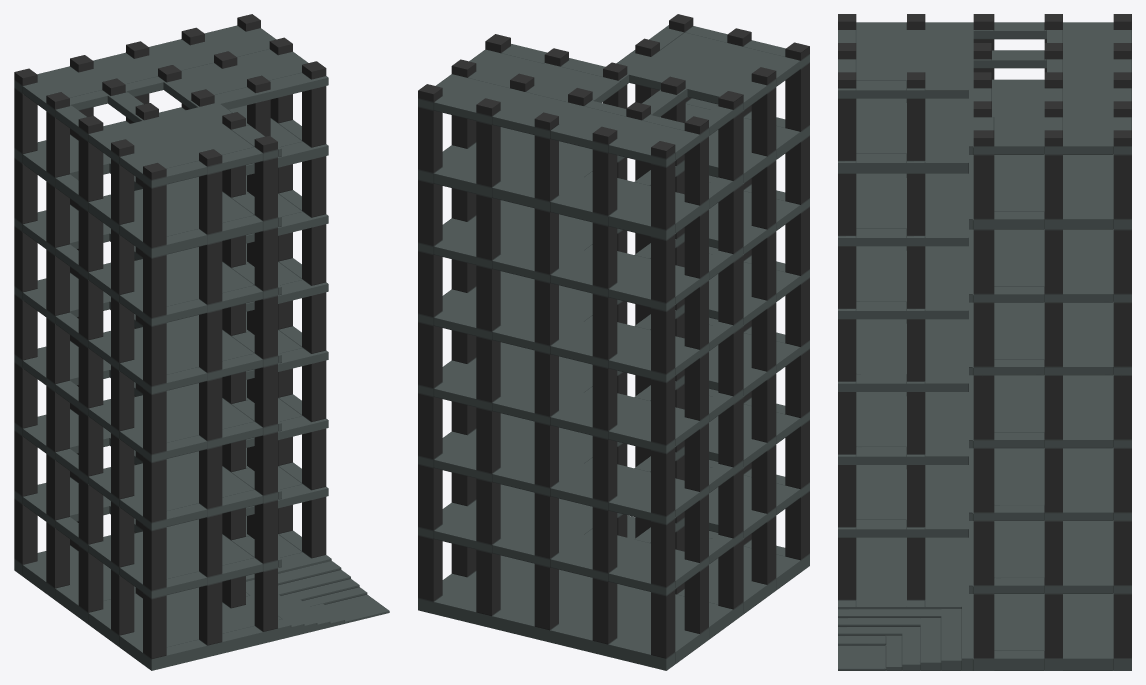
The model's file is plac_bud_4.dae.
The picture shows the model from 3 angles, left to right: view 1: azimuth 30°, elevation 25°; view 2: azimuth 150°, elevation 25°; view 3: azimuth 270°, elevation 25°; orthographic projection. The views are drawn at different scales.
Visible parts, largest first — view 1: Content; view 2: Content; view 3: Content.
Part boxes in pixels (left/top/right/bottom): Content: left=14, top=14, right=389, bottom=670; Content: left=418, top=14, right=809, bottom=670; Content: left=838, top=14, right=1131, bottom=670.
Size of the model in its own units: 128 by 256 by 128.
Materials: 1 (1 with a texture image).
